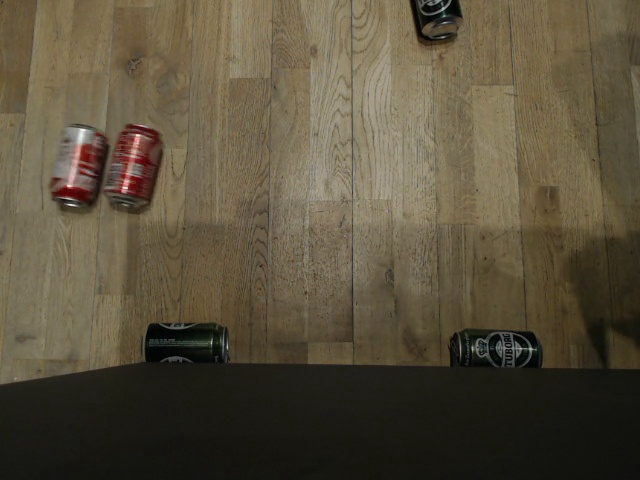beer: (448, 325, 543, 370), (141, 321, 230, 364), (412, 0, 465, 41)
cola: (47, 121, 107, 210), (102, 122, 163, 207)
